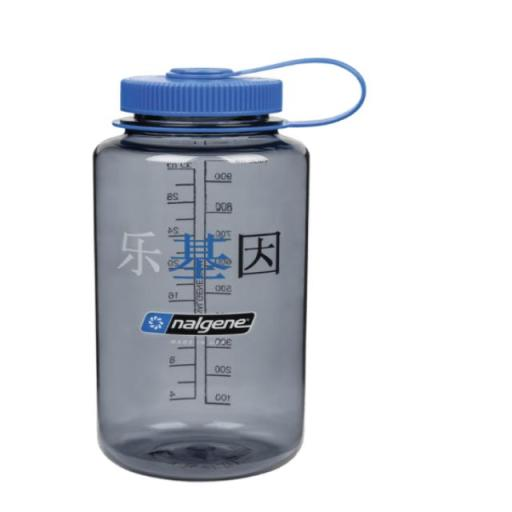bottle: (90, 52, 371, 485)
